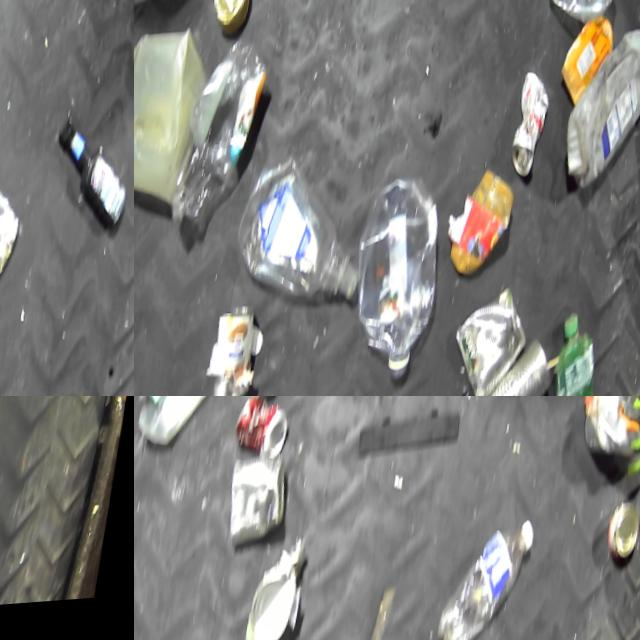can: (444, 283, 538, 396), (219, 448, 295, 552), (204, 300, 264, 396), (507, 73, 556, 188), (476, 335, 561, 396), (229, 396, 294, 468), (242, 566, 302, 640), (0, 178, 27, 289), (603, 507, 640, 571), (205, 0, 258, 42)
plastic_bottle: (226, 142, 381, 319), (337, 169, 455, 394), (168, 31, 274, 238), (432, 508, 539, 640)
